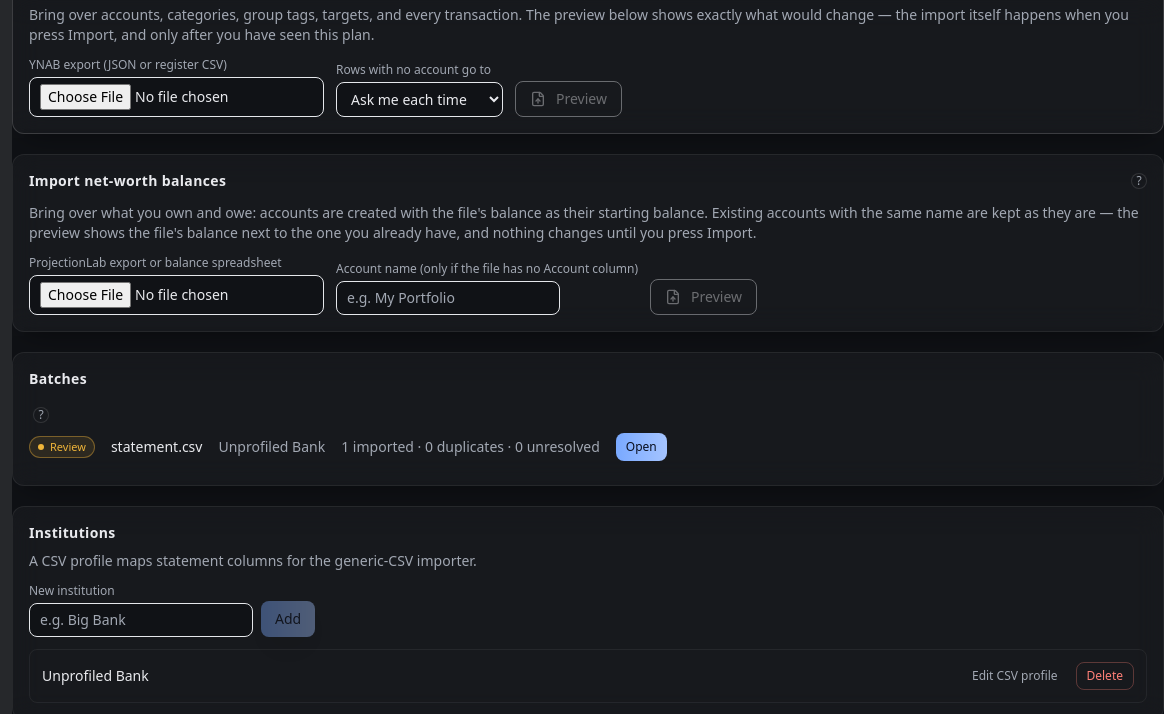
G7 (import wizard) — writes gated, zero-write previews untouched › a batch staged BEFORE enrolment: Open still works, Commit is gated, Discard is not
This screenshot has width=1164, height=714.
(page scrolled)
Click the button "Open".
click(641, 447)  # box left=616, top=433, right=667, bottom=461
(page scrolled)
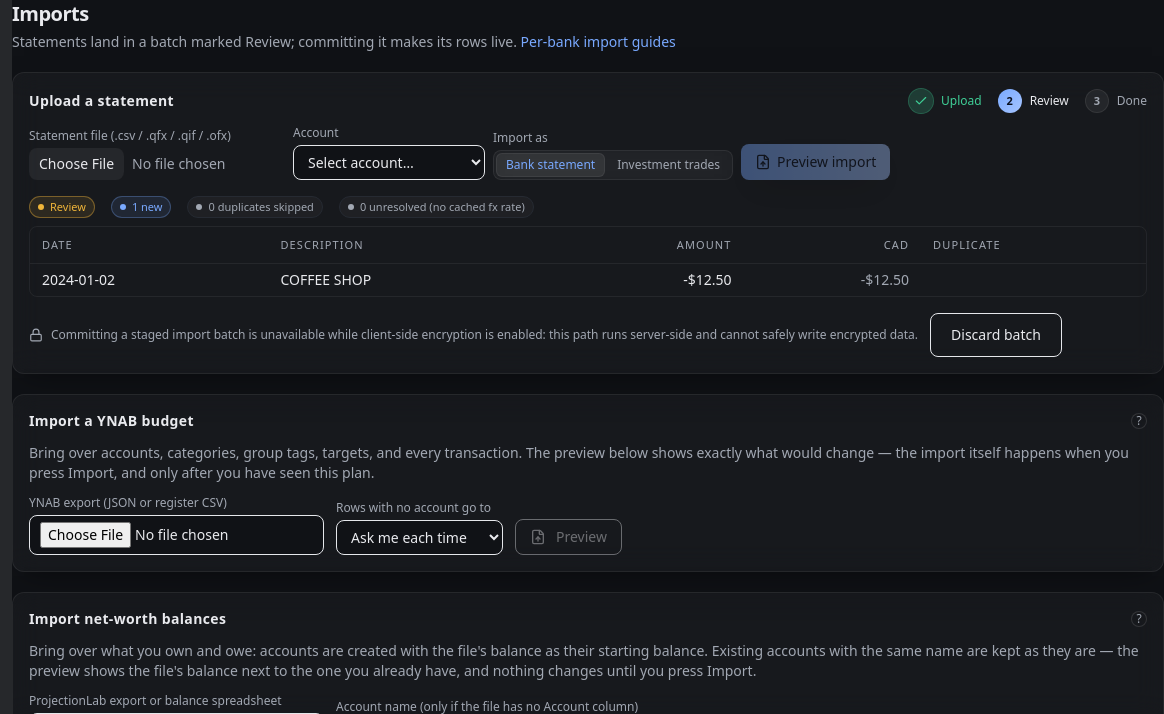
Now the button "Discard batch" is shown, box left=930, top=313, right=1062, bottom=357
